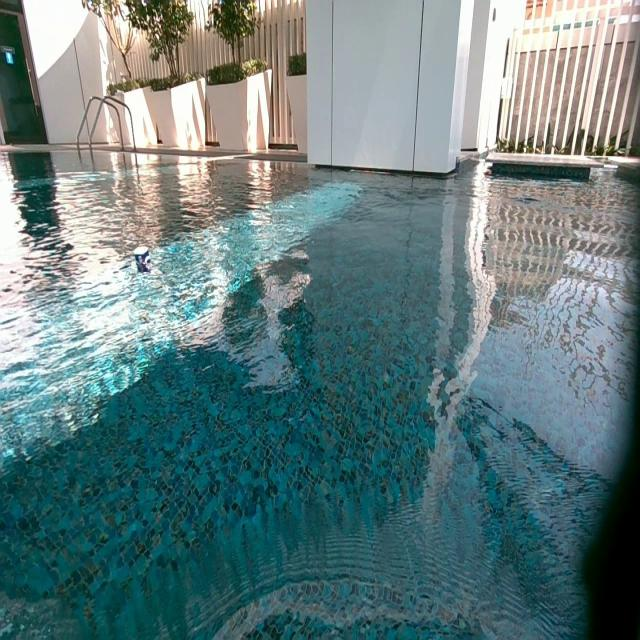Cans: (134, 246, 152, 273)
